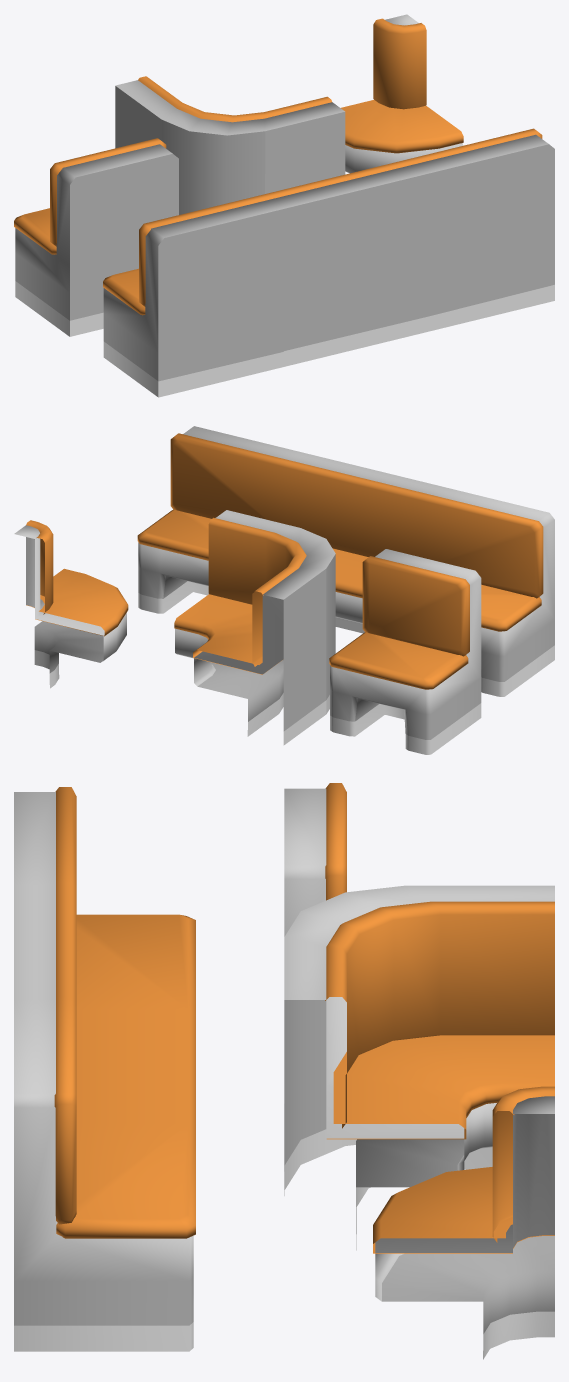
Rendered from DinerBooth.fbx.
3 renders of one model, top to bottom at view 1: azimuth 30°, elevation 25°; view 2: azimuth 150°, elevation 25°; view 3: azimuth 270°, elevation 25°, orthographic. The views are drawn at different scales.
Parts seen in each view (by area): view 1: BoothUright, BoothI, BoothUleft, BoothO, BoothLInward, BoothLOutward; view 2: BoothLInward, BoothO, BoothUright, BoothUleft, BoothI, BoothLOutward; view 3: BoothLInward, BoothUleft, BoothLOutward, BoothI, BoothUright, BoothO.
Part boxes in pixels (<box>): BoothUright: <box>103,194,283,397</box>; BoothI: <box>266,158,429,366</box>; BoothUleft: <box>412,128,554,331</box>; BoothO: <box>14,138,178,336</box>; BoothLInward: <box>115,76,345,214</box>; BoothLOutward: <box>341,14,463,173</box>; BoothLInward: <box>174,510,335,745</box>; BoothO: <box>329,549,481,754</box>; BoothUright: <box>421,486,554,696</box>; BoothUleft: <box>137,426,303,613</box>; BoothI: <box>286,453,438,633</box>; BoothLOutward: <box>14,520,128,688</box>; BoothLInward: <box>284,885,554,1250</box>; BoothUleft: <box>14,997,195,1351</box>; BoothLOutward: <box>373,1086,554,1359</box>; BoothI: <box>14,882,195,1129</box>; BoothUright: <box>14,787,195,1014</box>; BoothO: <box>284,783,346,936</box>.
Size of the model in its own units: 2.9 by 1.05 by 2.
